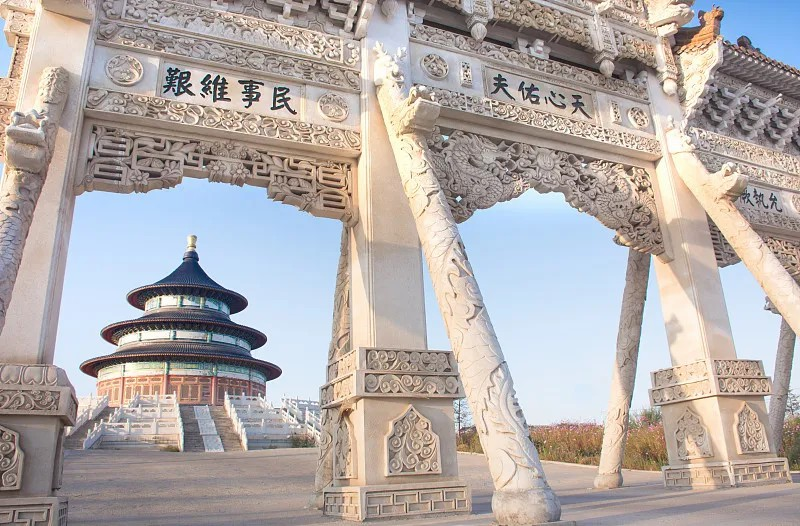Heaven: (78, 232, 283, 406)
